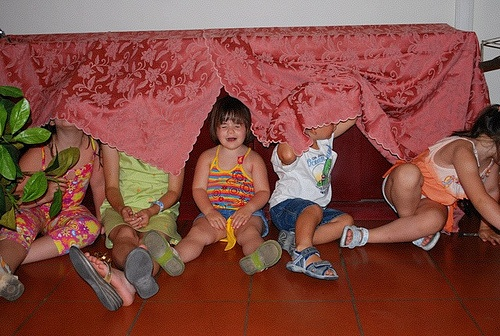head: (208, 97, 251, 151)
person: (331, 103, 498, 253), (0, 109, 108, 298), (166, 93, 272, 273), (97, 128, 184, 289), (267, 125, 353, 278)
